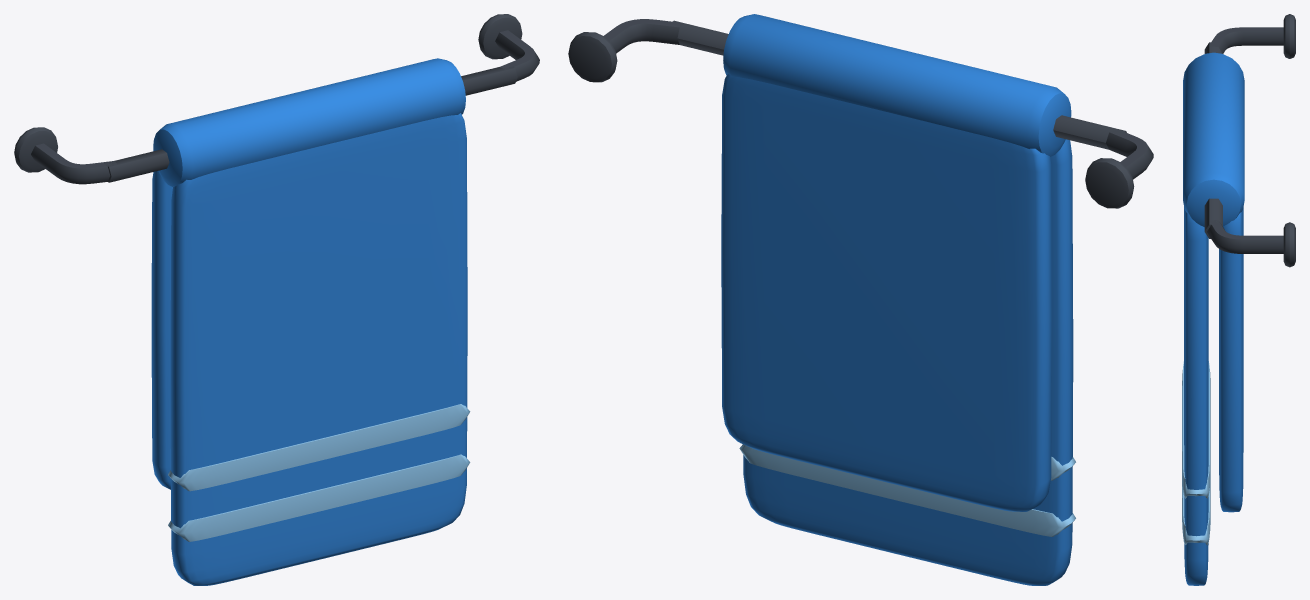
File: toalheiro_barra_toalha_azul.glb
The picture shows the model from 3 angles, left to right: view 1: azimuth 30°, elevation 25°; view 2: azimuth 150°, elevation 25°; view 3: azimuth 270°, elevation 25°; orthographic projection. The views are drawn at different scales.
Visible parts, largest first — view 1: toalheiro_barra_toalha_azul; view 2: toalheiro_barra_toalha_azul; view 3: toalheiro_barra_toalha_azul.
Boxes of the visible parts, x1,y1,x2,y2 form: toalheiro_barra_toalha_azul: (14, 14, 539, 585); toalheiro_barra_toalha_azul: (568, 14, 1153, 585); toalheiro_barra_toalha_azul: (1182, 14, 1295, 585).
Bounding box in the file's own units: 0.524 × 0.45 × 0.111.
1 material, 1 textured.
